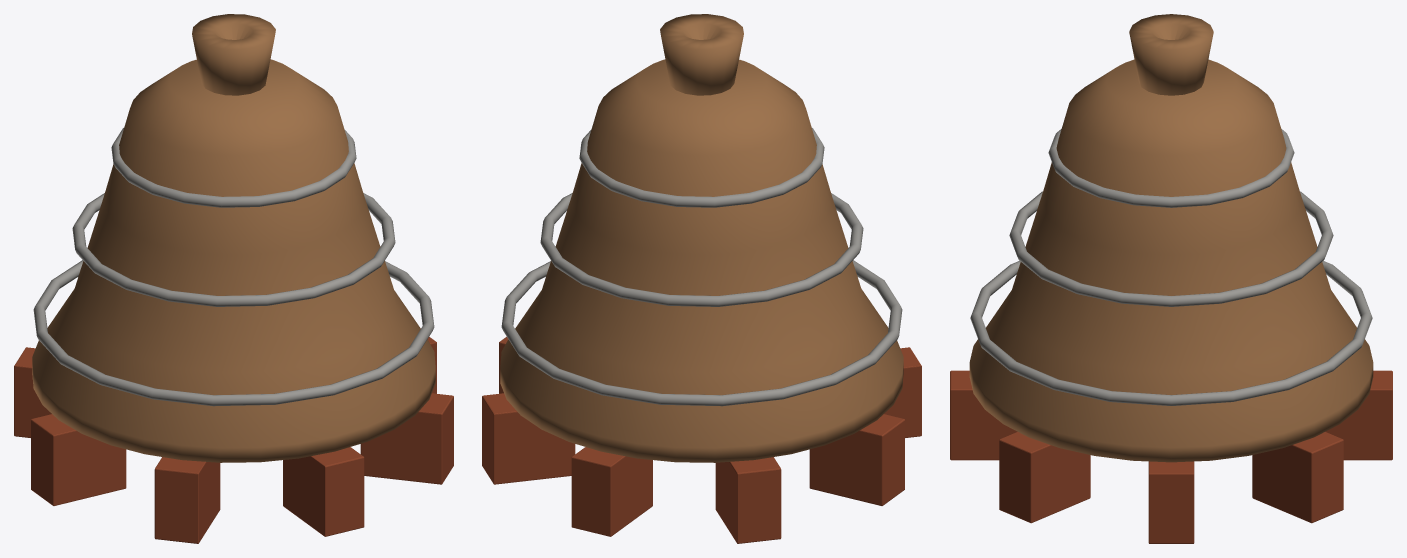
Rendered from glockenform.glb.
The picture shows the model from 3 angles, left to right: view 1: azimuth 30°, elevation 25°; view 2: azimuth 150°, elevation 25°; view 3: azimuth 270°, elevation 25°; orthographic projection.
Parts seen in each view (by area): view 1: d; view 2: d; view 3: d.
Part boxes in pixels (box(x1,y1,x2,y2)): d: box(14, 14, 453, 543); d: box(482, 14, 921, 543); d: box(950, 14, 1392, 543).
Bounding box in the file's own units: 1.36 × 1.42 × 1.36.
